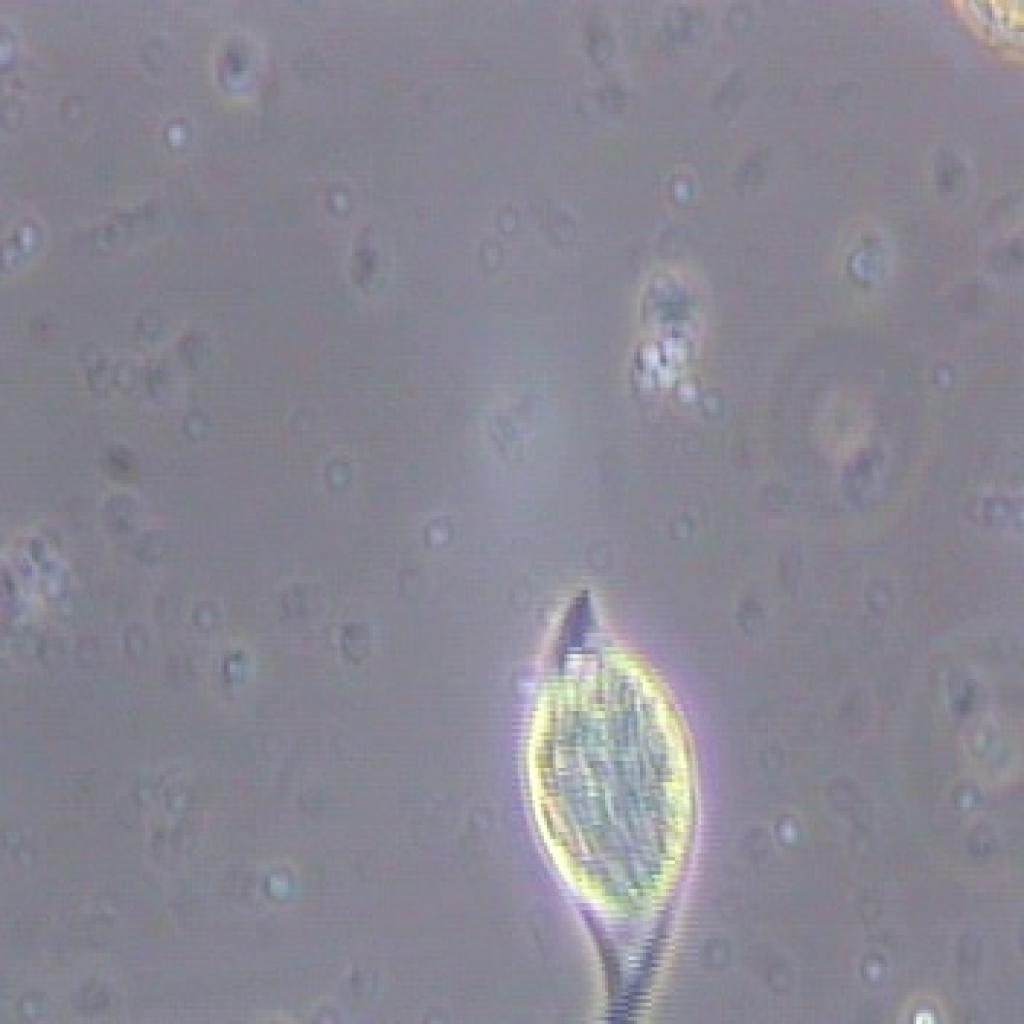Pristina: (509, 551, 713, 1021)
